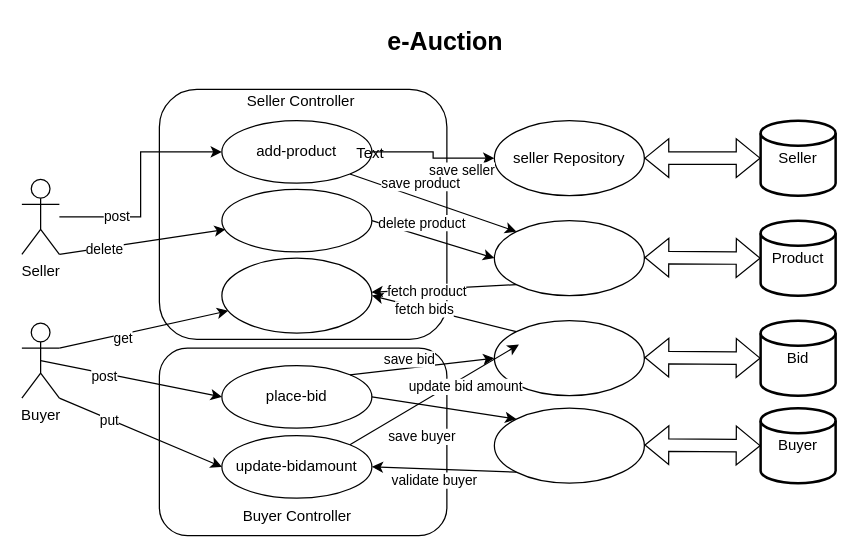
This 859x558 diagram has some shape labels left out. The shapes that lost their labels are listed below. From the top down, each one's centre as x and y in pixels, then its label:
At (x=296, y=220): "delete-product".
At (x=568, y=257): "product Repository".
At (x=296, y=295): "show-bids".
At (x=568, y=357): "bid Repository".
At (x=568, y=445): "buyer Repository".
